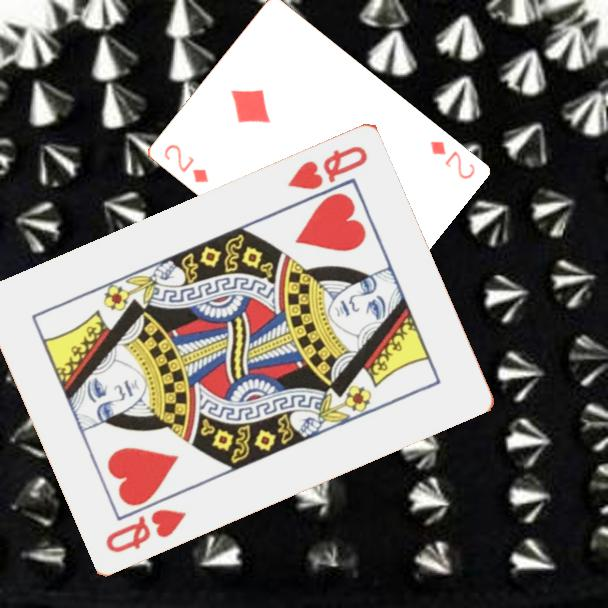d02: (160, 140, 211, 186), (426, 137, 478, 182)
h12: (102, 504, 189, 556), (284, 141, 371, 192)
